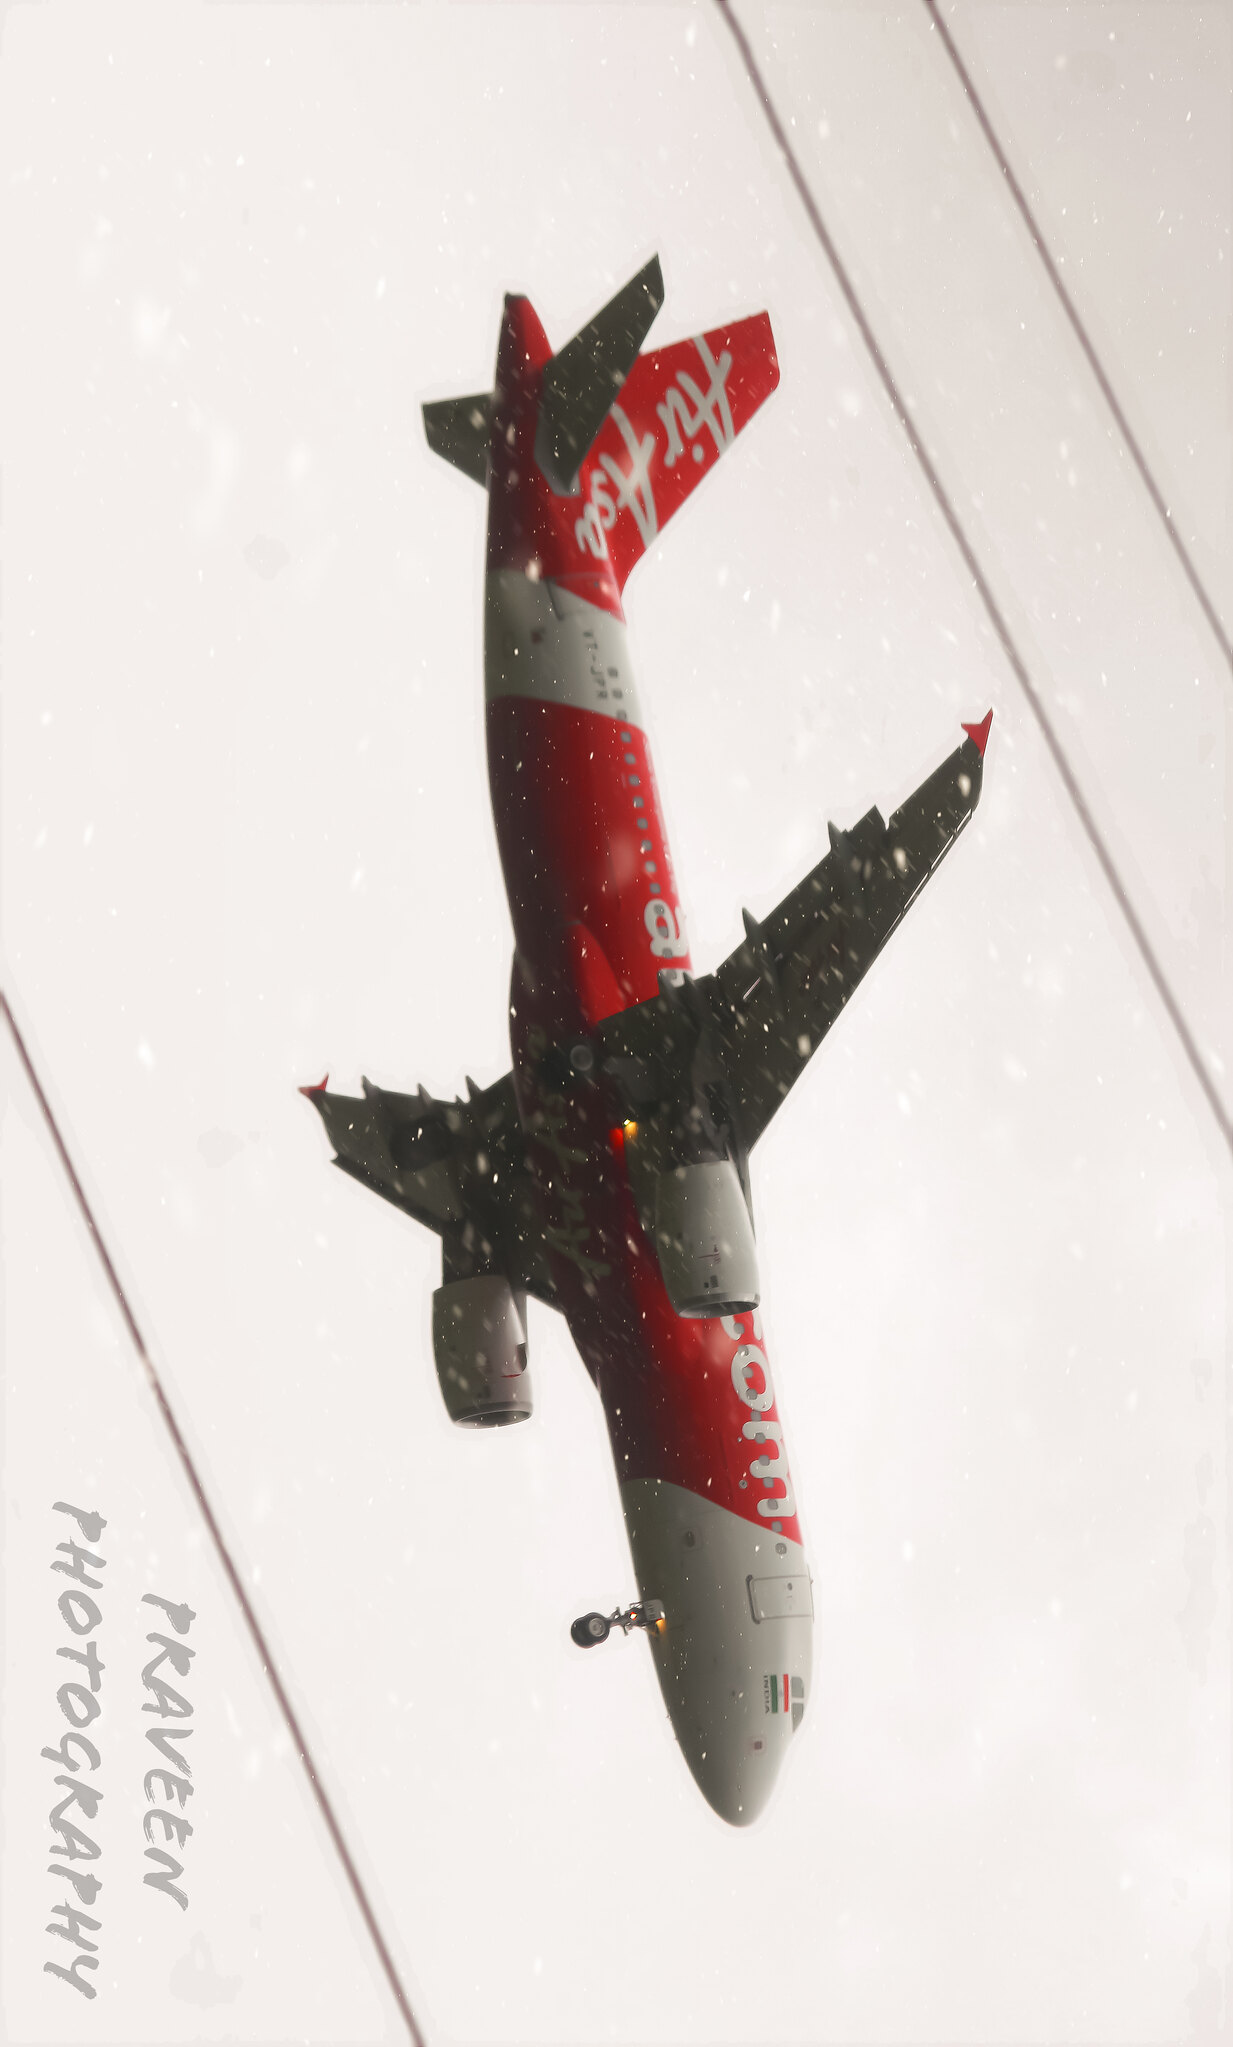aeroplane: (336, 249, 962, 1825)
